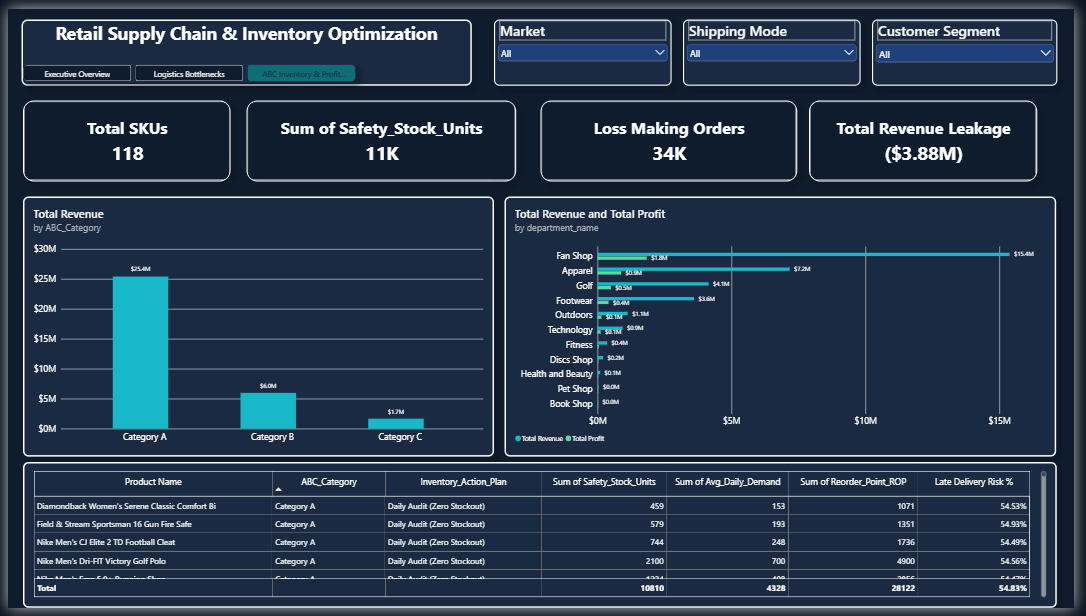

The page's visual inventory and layout, read from the dashboard file:
{"tool":"powerbi","page":{"name":"ABC Inventory & Profit Leakage","canvas":[1920,1080],"ordinal":2},"visuals":[{"type":"textbox","box":[23.9,19.1,811.2,119.3],"z":0},{"type":"slicer","fields":{"Values":["vw_fact_orders.market"]},"box":[875.6,19.1,319.7,119.3],"z":1000},{"type":"slicer","fields":{"Values":["vw_dim_customers.customer_segment"]},"box":[1555.6,19.1,334,119.3],"z":2000},{"type":"slicer","fields":{"Values":["vw_fact_orders.shipping_mode"]},"box":[1216.8,19.1,319.7,119.3],"z":3000},{"type":"cardVisual","fields":{"Data":["Count(02_ABC_Inventory.Product Card Id)"]},"box":[25.7,165.7,374.3,145.7],"z":4000},{"type":"cardVisual","fields":{"Data":["vw_fact_orders.Loss Making Orders"]},"box":[960,165.7,462.9,145.7],"z":5000},{"type":"cardVisual","fields":{"Data":["vw_fact_orders.Total Revenue Leakage"]},"box":[1442.9,165.7,411.4,145.7],"z":6000},{"type":"cardVisual","fields":{"Data":["Sum(02_ABC_Inventory.Safety_Stock_Units)"]},"box":[428.6,165.7,485.7,145.7],"z":7000},{"type":"clusteredColumnChart","fields":{"Category":["02_ABC_Inventory.ABC_Category"],"Y":["vw_fact_orders.Total Revenue"]},"box":[25.7,337.1,848.6,468.6],"z":9001},{"type":"clusteredBarChart","fields":{"Category":["vw_dim_products.department_name"],"Y":["vw_fact_orders.Total Revenue","vw_fact_orders.Total Profit"]},"box":[894.3,337.1,994.3,468.6],"z":9002},{"type":"tableEx","fields":{"Values":["02_ABC_Inventory.Product Name","02_ABC_Inventory.ABC_Category","02_ABC_Inventory.Inventory_Action_Plan","02_ABC_Inventory.Safety_Stock_Units","02_ABC_Inventory.Avg_Daily_Demand","02_ABC_Inventory.Reorder_Point_ROP","vw_fact_orders.Late Delivery Risk %"]},"box":[25.7,817.1,1862.9,262.9],"z":9003},{"type":"pageNavigator","box":[25.7,100,600,31.4],"z":9004}]}

Visuals, with their boxes in screenshot pixels (x1, y1, x2, y2), scaled from the page's 1920x1080 canvas onto the 1086x616 screenshot:
textbox: (left=14, top=11, right=472, bottom=79)
slicer - vw_fact_orders.market: (left=495, top=11, right=676, bottom=79)
slicer - vw_dim_customers.customer_segment: (left=880, top=11, right=1069, bottom=79)
slicer - vw_fact_orders.shipping_mode: (left=688, top=11, right=869, bottom=79)
cardVisual - Count(02_ABC_Inventory.Product Card Id): (left=15, top=95, right=226, bottom=178)
cardVisual - vw_fact_orders.Loss Making Orders: (left=543, top=95, right=805, bottom=178)
cardVisual - vw_fact_orders.Total Revenue Leakage: (left=816, top=95, right=1049, bottom=178)
cardVisual - Sum(02_ABC_Inventory.Safety_Stock_Units): (left=242, top=95, right=517, bottom=178)
clusteredColumnChart - 02_ABC_Inventory.ABC_Category x vw_fact_orders.Total Revenue: (left=15, top=192, right=495, bottom=460)
clusteredBarChart - vw_dim_products.department_name x vw_fact_orders.Total Revenue: (left=506, top=192, right=1068, bottom=460)
tableEx - 02_ABC_Inventory.Product Name x 02_ABC_Inventory.ABC_Category: (left=15, top=466, right=1068, bottom=615)
pageNavigator: (left=15, top=57, right=354, bottom=75)
